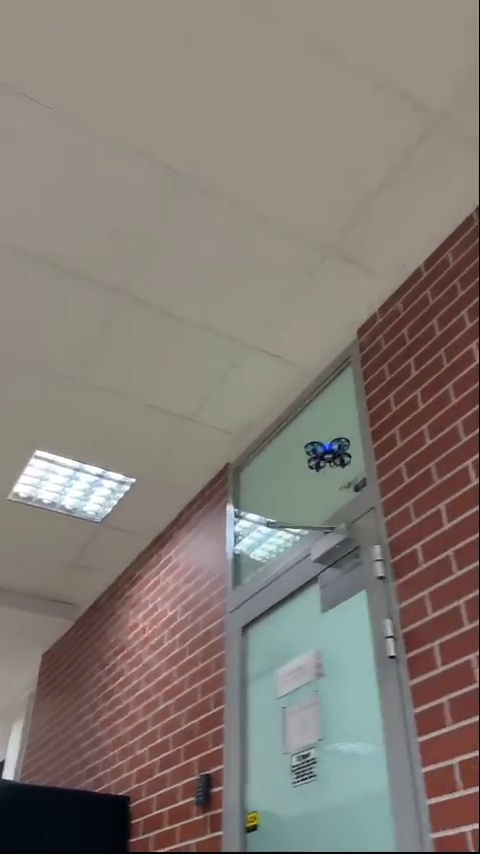drone: (306, 442, 358, 478)
